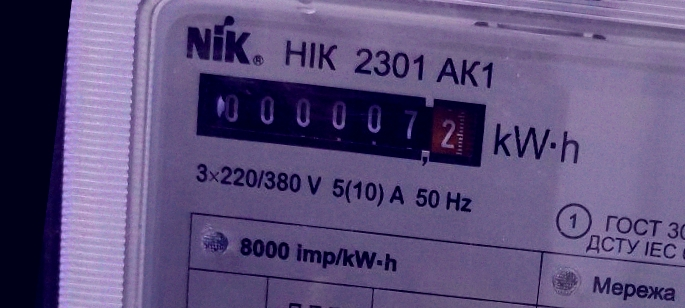0: (288, 91, 316, 132), (217, 88, 244, 125), (360, 98, 385, 136), (326, 96, 350, 135), (254, 90, 279, 127)
2: (435, 114, 460, 152)
7: (396, 103, 421, 144)
screen: (185, 61, 496, 177)
